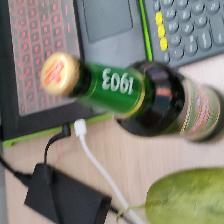gua: (134, 165, 221, 224)
